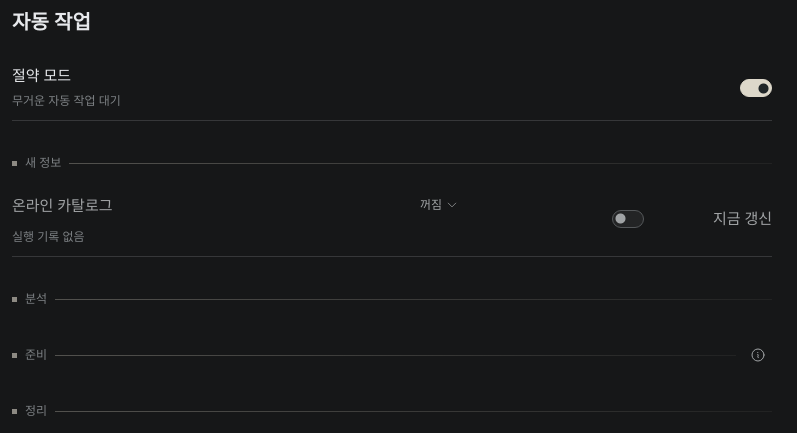
sends a forced catalog run through run_auto_job even in lightweight mode and shows the returned count
Step 1. Click the button "지금 갱신" → (742, 218), box [705, 204, 780, 232]
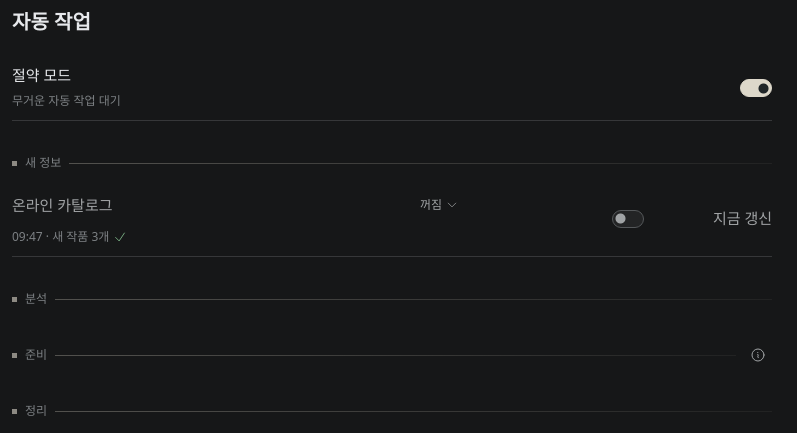
Expected: the text "09:47 · 새 작품 3개" is shown, [12, 225, 109, 248]
